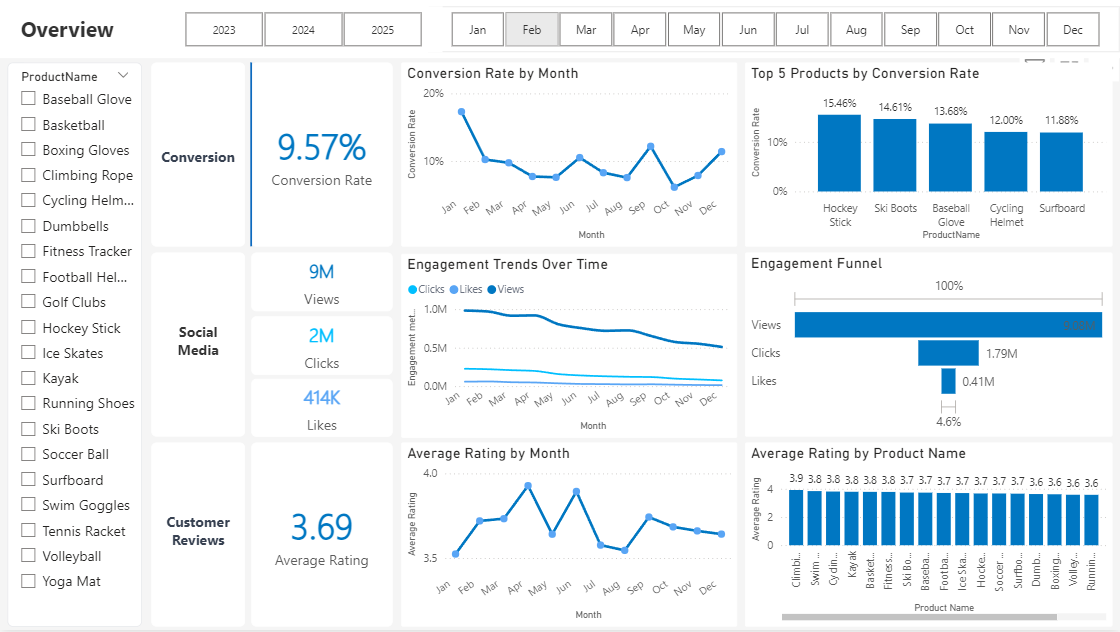

What the dashboard file says about the page in this screenshot:
{"tool":"powerbi","page":{"name":"Overview","canvas":[1280,720],"ordinal":0},"visuals":[{"type":"textbox","box":[0,0,1280,66.2],"z":0},{"type":"slicer","fields":{"Values":["dim_products.ProductName"]},"box":[8.8,71.2,153.8,645],"z":1000},{"type":"slicer","fields":{"Values":["Calendar.MonthNameShort"]},"box":[490,7.5,790,52.5],"z":2000},{"type":"slicer","fields":{"Values":["Calendar.Year"]},"box":[186.2,7.5,320,52.5],"z":3000},{"type":"textbox","box":[172.5,71.2,107.5,210],"z":4000},{"type":"textbox","box":[172.5,288.8,107.5,210],"z":5000},{"type":"textbox","box":[172.5,506.2,107.5,210],"z":6000},{"type":"card","fields":{"Values":["Calculations.Conversion Rate"]},"box":[287.5,71.2,161.2,210],"z":7000},{"type":"card","fields":{"Values":["Calculations.Views"]},"box":[287.5,288.8,161.2,67.5],"z":8000},{"type":"card","fields":{"Values":["Calculations.Likes"]},"box":[287.5,432.5,161.2,66.2],"z":9000},{"type":"card","fields":{"Values":["Calculations.Clicks"]},"box":[287.5,361.2,161.2,67.5],"z":10000},{"type":"card","fields":{"Values":["Calculations.Average Rating"]},"box":[287.5,506.2,161.2,210],"z":11000},{"type":"lineChart","title":"Conversion Rate by Month","fields":{"Y":["Calculations.Conversion Rate"],"Category":["Calendar.MonthNameShort"]},"box":[458.8,71.2,383.8,210],"z":12000},{"type":"clusteredColumnChart","title":"Top 5 Products by Conversion Rate","fields":{"Category":["dim_products.ProductName"],"Y":["Calculations.Conversion Rate"]},"box":[851.2,71.2,420,210],"z":13000},{"type":"funnel","title":"Engagement Funnel","fields":{"Y":["Calculations.Views","Calculations.Clicks","Calculations.Likes"]},"box":[851.2,288.8,420,210],"z":14000},{"type":"lineChart","title":"Engagement Trends Over Time","fields":{"Category":["Calendar.MonthNameShort"],"Y":["Calculations.Clicks","Calculations.Likes","Calculations.Views"]},"box":[458.8,290,383.8,210],"z":15000},{"type":"lineChart","fields":{"Category":["Calendar.MonthNameShort"],"Y":["Calculations.Average Rating"]},"box":[458.8,506.2,383.8,210],"z":16000},{"type":"clusteredColumnChart","fields":{"Category":["dim_products.ProductName"],"Y":["Calculations.Average Rating"]},"box":[851.2,506.2,420,210],"z":17000},{"type":"shape","box":[131.2,71.2,311.2,210],"z":18000},{"type":"textbox","box":[18.8,11.2,167.5,46.2],"z":19000}]}

Visuals, with their boxes in screenshot pixels (x1, y1, x2, y2), scaled from the page's 1280x720 canvas onto the 1120x632 screenshot:
textbox: (0,0,1119,58)
slicer - dim_products.ProductName: (8,62,142,629)
slicer - Calendar.MonthNameShort: (429,7,1119,53)
slicer - Calendar.Year: (163,7,443,53)
textbox: (151,62,245,247)
textbox: (151,254,245,438)
textbox: (151,444,245,629)
card - Calculations.Conversion Rate: (252,62,393,247)
card - Calculations.Views: (252,254,393,313)
card - Calculations.Likes: (252,380,393,438)
card - Calculations.Clicks: (252,317,393,376)
card - Calculations.Average Rating: (252,444,393,629)
"Conversion Rate by Month" lineChart: (401,62,737,247)
"Top 5 Products by Conversion Rate" clusteredColumnChart: (745,62,1112,247)
"Engagement Funnel" funnel: (745,254,1112,438)
"Engagement Trends Over Time" lineChart: (401,255,737,439)
lineChart - Calendar.MonthNameShort x Calculations.Average Rating: (401,444,737,629)
clusteredColumnChart - dim_products.ProductName x Calculations.Average Rating: (745,444,1112,629)
shape: (115,62,387,247)
textbox: (16,10,163,50)
